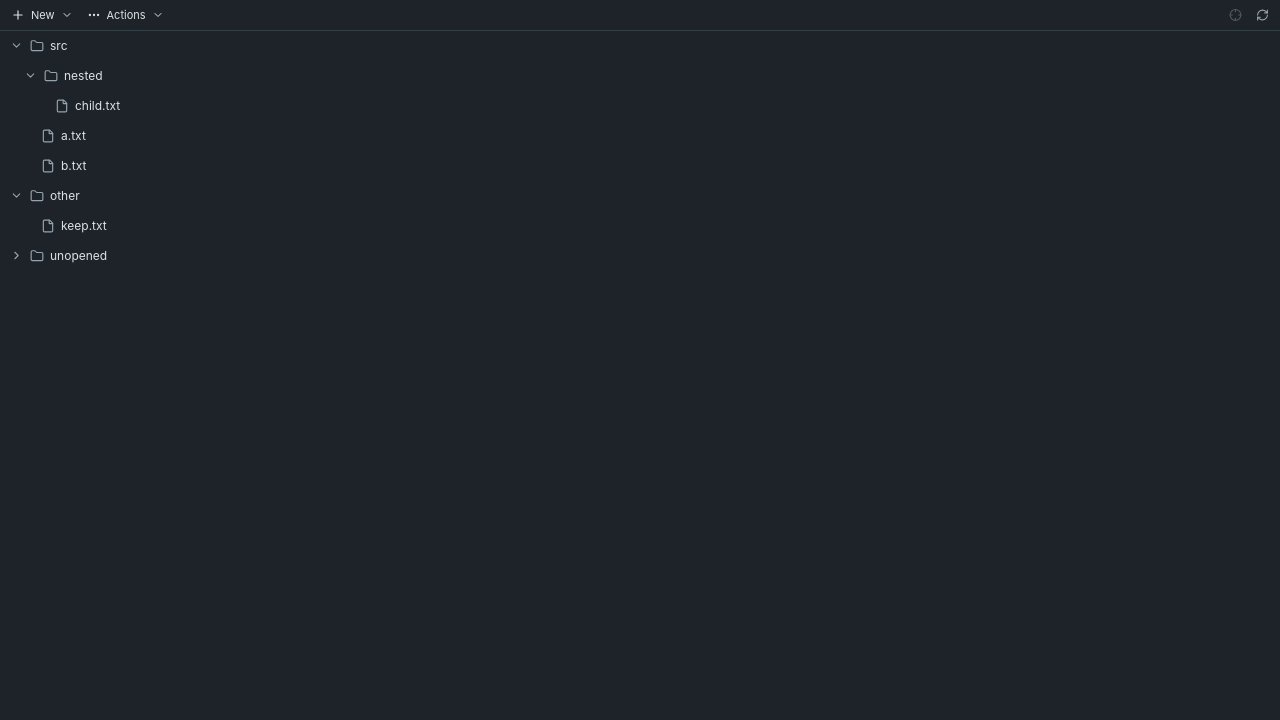
Test: ignores a pre-rename directory listing that arrives after the rename
The width and height of the screenshot is (1280, 720).
Check: the text "keep.txt" is shown, box [61,218,107,233]
Click the text "a.txt". click: (73, 136)
box: [61,128,86,143]
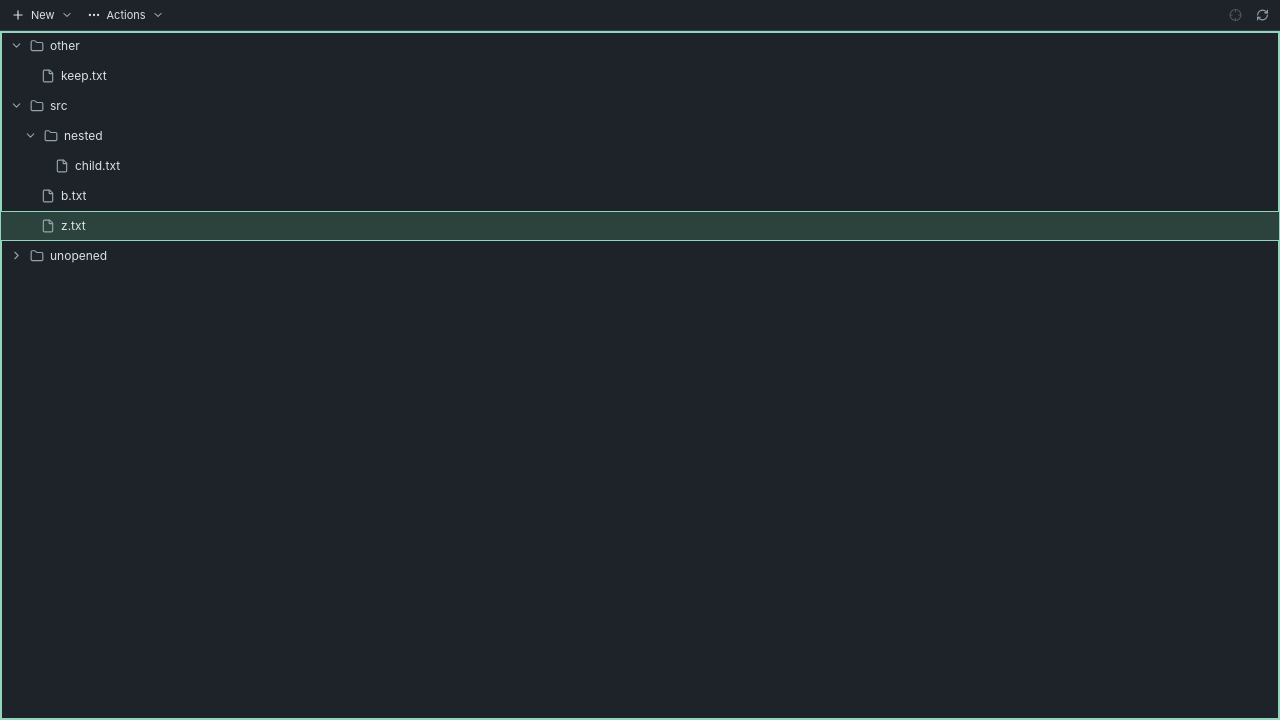
Check: the text "other" is shown, box [50,38,80,53]
Check: the text "z.txt" is shown, box [61,218,86,233]
Check: the text "child.txt" is shown, box [75,158,120,173]
